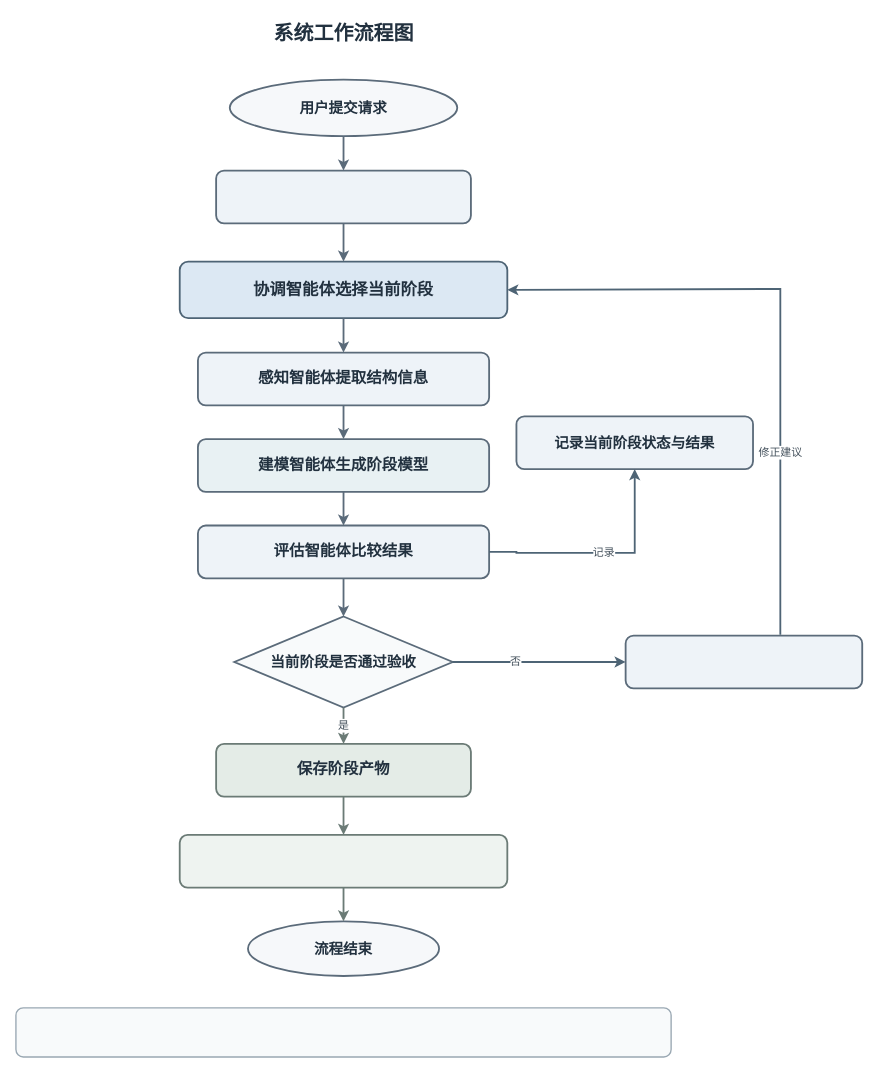
Image size: 879x1073. Some labels were removed from this diagram. Here are the shapes that lost their labels. From the top down, the centre of each, then its label:
At [343,196]: "生成目标对象".
At [743,661]: "优化智能体给出修正建议".
At [343,861]: "进入下一阶段或输出最终模型".
At [343,1032]: "阶段内采用“感知→建模→评估→优化”的闭环；阶段通过后再进入下一阶段".
